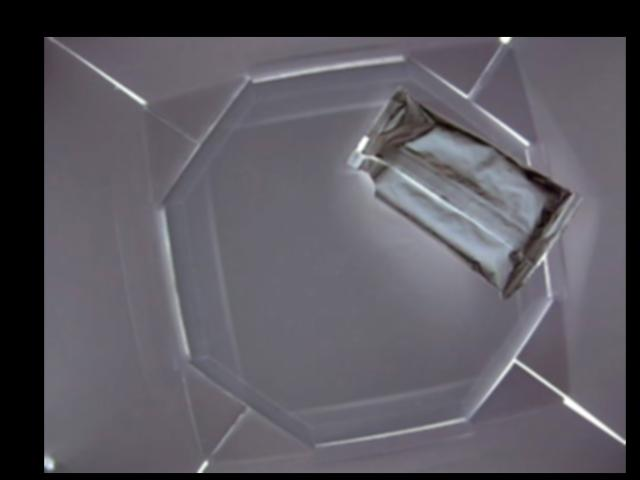Medicine: (344, 84, 579, 302)
